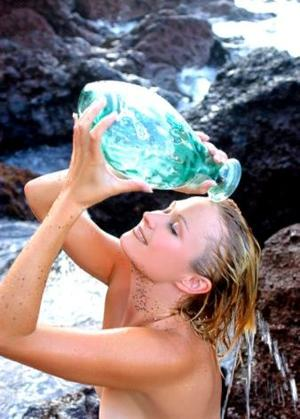person: (1, 98, 257, 419)
